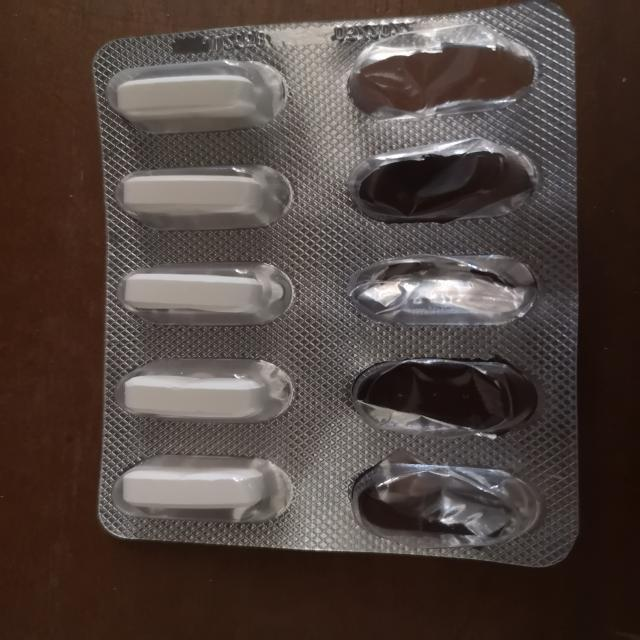Empty: (338, 138, 546, 228), (341, 28, 544, 119), (341, 454, 544, 544), (339, 248, 544, 330), (338, 358, 540, 438)
Pill: (109, 445, 298, 528), (103, 61, 294, 138), (108, 354, 306, 428), (108, 162, 300, 234), (112, 260, 298, 326)
